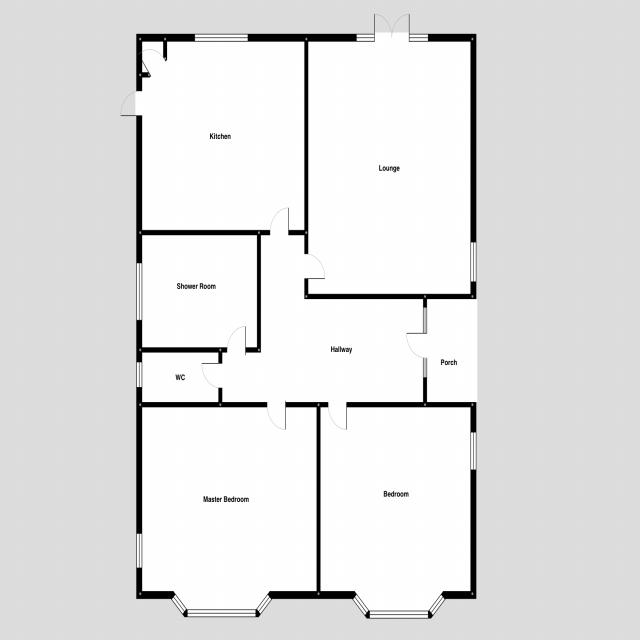DOOR: (374, 11, 411, 41), (119, 88, 143, 118), (327, 402, 349, 433), (265, 402, 288, 431), (304, 252, 327, 281), (269, 205, 290, 236), (405, 332, 429, 359), (200, 361, 222, 390), (226, 324, 248, 353)
ROOM: (305, 5, 477, 299), (136, 401, 321, 618), (116, 34, 309, 236), (316, 401, 477, 619)
WINDOW: (187, 607, 257, 619), (133, 260, 145, 323), (193, 31, 250, 44), (369, 610, 428, 619), (169, 592, 188, 616), (351, 593, 370, 617), (256, 592, 274, 617), (469, 430, 479, 472), (429, 593, 446, 617), (135, 531, 144, 570), (470, 240, 478, 283), (135, 359, 144, 389), (355, 32, 375, 44), (409, 32, 429, 43), (422, 306, 428, 333), (422, 358, 428, 379)
